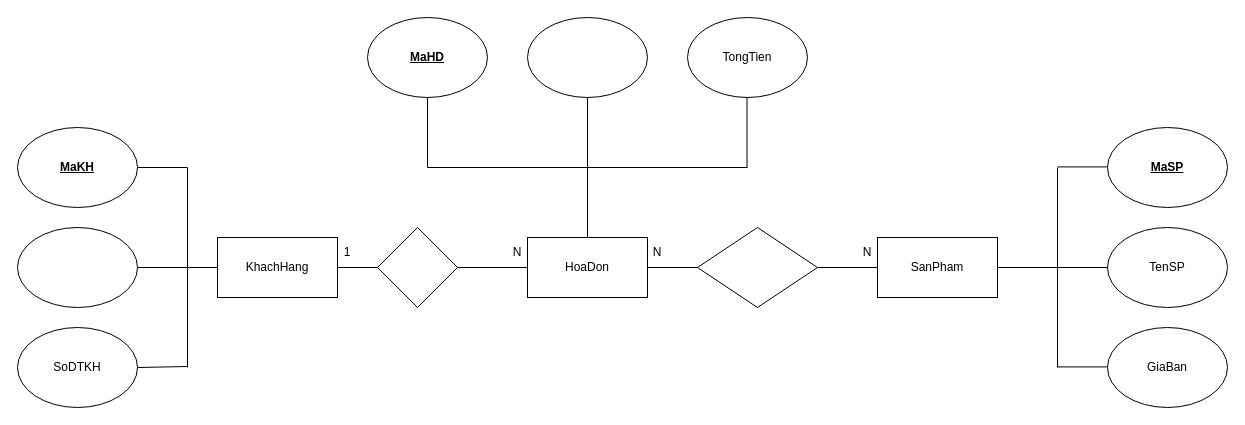
Image size: 1245x425. Some labels were removed from this diagram. The shapes that lost their labels are listed below. From the top down, each one's centre as x and y in pixels, then its label:
At [587,57]: "NgayMua".
At [77,267]: "TenKH".
At [417,267]: "Mua".
At [757,267]: "ChiTietMuaHang".
